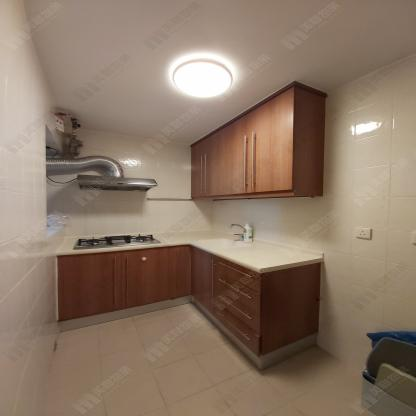Exhaust Hood: (45, 155, 156, 192)
Sink: (57, 243, 261, 357), (193, 81, 328, 199)
Stove: (75, 233, 161, 252)
